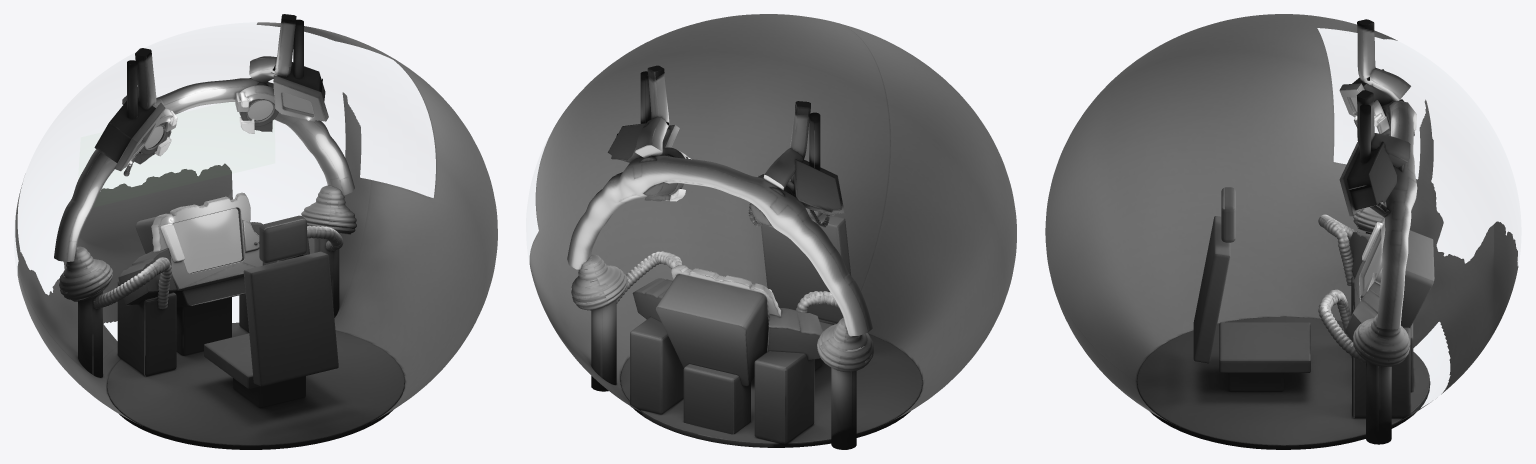
The model's file is cockpit_003.glb.
3 views of the same model, side by side, from view 1: azimuth 30°, elevation 25°; view 2: azimuth 150°, elevation 25°; view 3: azimuth 270°, elevation 25° (orthographic).
Visible parts, largest first — view 1: Hull, Floor, Seat_Back, Arch, Console_CowlBaseL, MasterMonitor_Bezel, Screen_MasterMonitor, MasterMonitor_Pedestal, Arch_FootL, Seat_Headrest, MasterMonitor_Body, Arch_FootColumnL (+16 smaller); view 2: Hull, Arch, Floor, MasterMonitor_Body, Console_CowlBaseL, Seat_Back, Console_CowlBaseR, MasterMonitor_Pedestal, Arch_FootR, Console_CowlL, Arch_FootL, Arch_FootColumnL (+11 smaller); view 3: Hull, Floor, Arch, Seat_Pan, Seat_Back, MasterMonitor_Body, SlaveMonitor1_Body, Console_CowlBaseR, Arch_FootColumnR, Arch_FootR, Strut_L, Hose_R (+10 smaller).
Boxes of the visible parts, <box> form: Hull: <box>15,22,497,425</box>; Floor: <box>107,322,404,449</box>; Seat_Back: <box>243,251,338,386</box>; Arch: <box>54,78,354,261</box>; Console_CowlBaseL: <box>117,281,176,376</box>; MasterMonitor_Bezel: <box>151,192,263,290</box>; Screen_MasterMonitor: <box>173,208,242,273</box>; MasterMonitor_Pedestal: <box>176,297,231,355</box>; Arch_FootL: <box>59,246,112,301</box>; Seat_Headrest: <box>259,215,306,262</box>; MasterMonitor_Body: <box>135,205,245,307</box>; Arch_FootColumnL: <box>78,291,102,377</box>; Hull: <box>529,14,1016,423</box>; Arch: <box>567,155,872,336</box>; Floor: <box>620,323,922,447</box>; MasterMonitor_Body: <box>656,274,768,386</box>; Console_CowlBaseL: <box>754,351,814,444</box>; Seat_Back: <box>761,213,851,323</box>; Console_CowlBaseR: <box>630,317,683,414</box>; MasterMonitor_Pedestal: <box>683,364,750,434</box>; Arch_FootR: <box>571,254,627,310</box>; Console_CowlL: <box>767,308,822,360</box>; Arch_FootL: <box>817,318,873,371</box>; Arch_FootColumnL: <box>831,368,856,449</box>; Hull: <box>1045,14,1518,424</box>; Floor: <box>1136,316,1430,449</box>; Arch: <box>1376,100,1417,329</box>; Seat_Pan: <box>1219,322,1310,372</box>; Seat_Back: <box>1193,216,1230,363</box>; MasterMonitor_Body: <box>1353,230,1434,327</box>; SlaveMonitor1_Body: <box>1347,141,1396,210</box>; Console_CowlBaseR: <box>1352,327,1410,418</box>; Arch_FootColumnR: <box>1366,361,1391,444</box>; Arch_FootR: <box>1353,314,1410,366</box>; Strut_L: <box>1357,19,1410,101</box>; Hose_R: <box>1318,289,1366,364</box>.
Bounding box in the file's own units: 2.7 × 2.3 × 2.6.
Materials: 3 (1 with a texture image).
